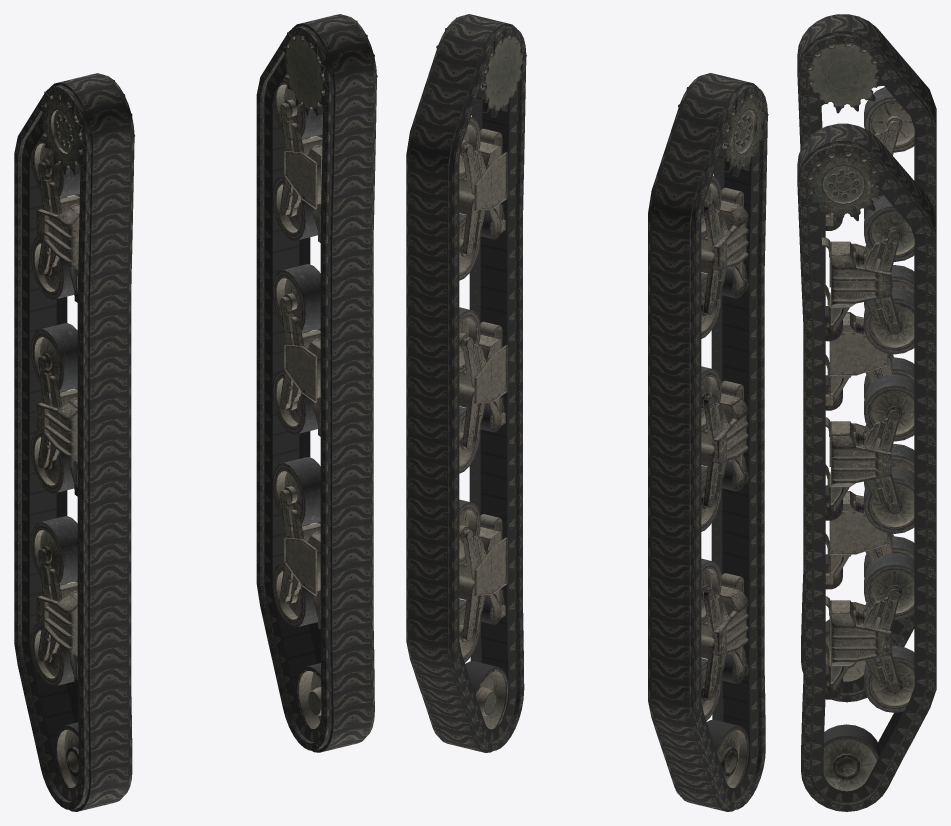
File: Chassis.glb
3 renders of one model, left to right at view 1: azimuth 30°, elevation 25°; view 2: azimuth 150°, elevation 25°; view 3: azimuth 270°, elevation 25°, orthographic. The views are drawn at different scales.
Visible parts, largest first — view 1: set_0_group_0, set_1_group_0, set_3_group_0, set_2_group_0; view 2: set_0_group_0, set_1_group_0, set_3_group_0, set_2_group_0; view 3: set_3_group_0, set_1_group_0, set_2_group_0, set_0_group_0.
Part boxes in pixels (x1,y1,x2,y2): set_0_group_0: [14, 73, 134, 811]; set_1_group_0: [256, 14, 376, 752]; set_3_group_0: [272, 21, 377, 728]; set_2_group_0: [30, 80, 134, 787]; set_0_group_0: [648, 73, 767, 811]; set_1_group_0: [406, 14, 526, 752]; set_3_group_0: [436, 17, 526, 729]; set_2_group_0: [678, 76, 768, 788]; set_3_group_0: [800, 146, 914, 791]; set_1_group_0: [797, 123, 936, 811]; set_2_group_0: [800, 36, 914, 681]; set_0_group_0: [797, 14, 936, 702].
Bounding box in the file's own units: 2.56 × 6.05 × 1.14.
4 materials, 4 textured.
